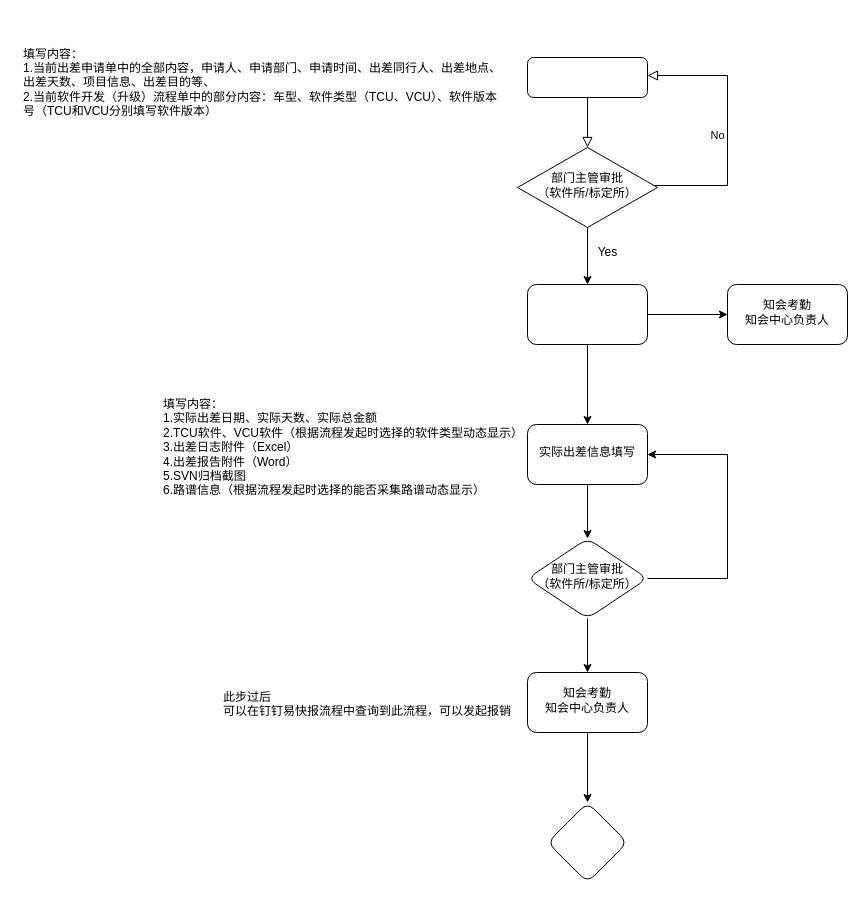
Some shapes in this 865 by 900 pixel diagram are drawn without their labels. Here are the shapes that lost their labels. From the top down, the centre of each, then its label:
At (587,77): "流程发起".
At (587,314): "软件版本号下发".
At (587,842): "软件所所长判断是否发起ECR".
